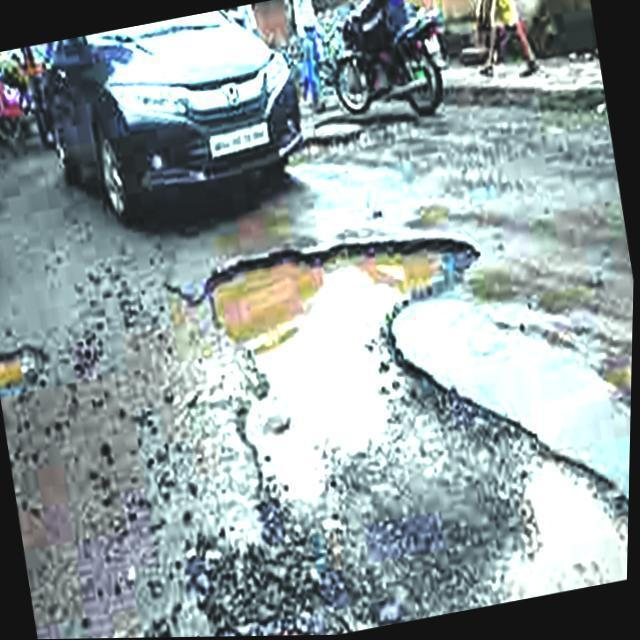Pothole: (206, 234, 631, 637), (0, 346, 49, 401)
